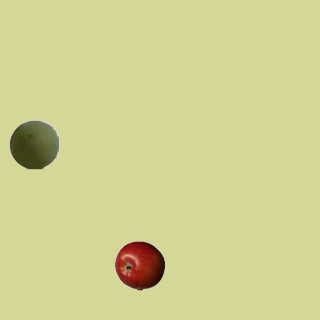Apple Braeburn: (114, 240, 164, 290)
Grape White 4: (8, 119, 58, 169)
